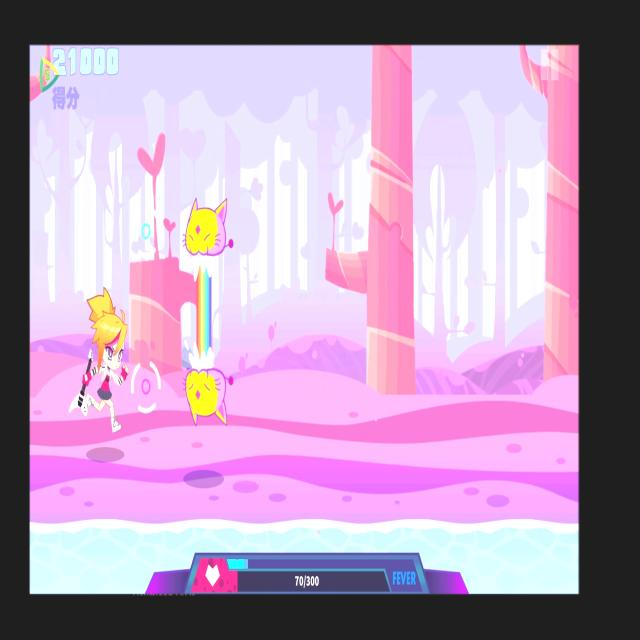Two-Faced Monster: (180, 196, 236, 432)
